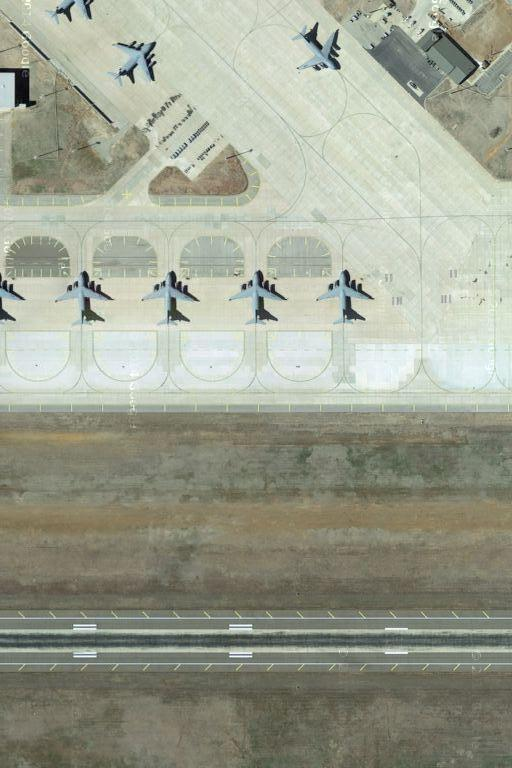C-17: (226, 264, 285, 332), (143, 264, 198, 330), (58, 267, 111, 332), (317, 269, 373, 327), (293, 20, 342, 79), (106, 37, 160, 90)
